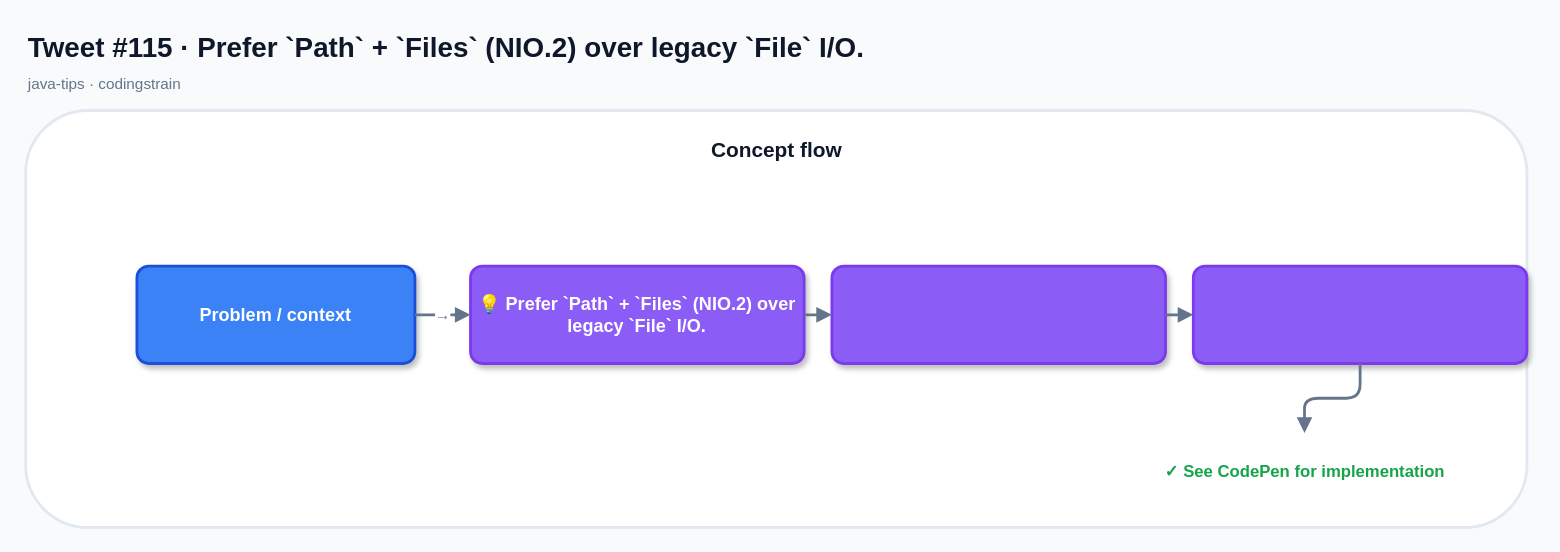
The diagram is 1560 pixels wide and 552 high, and some of its shapes have lost their labels. The shapes that lost their labels are listed below. From the top down, each one's centre as x and y in pixels, then its label:
At pixel 999 316: "`Path.of(...)` is portable across OSes".
At pixel 1361 316: "One-liners: `readString`, `writeString`, `readAllLines`".
